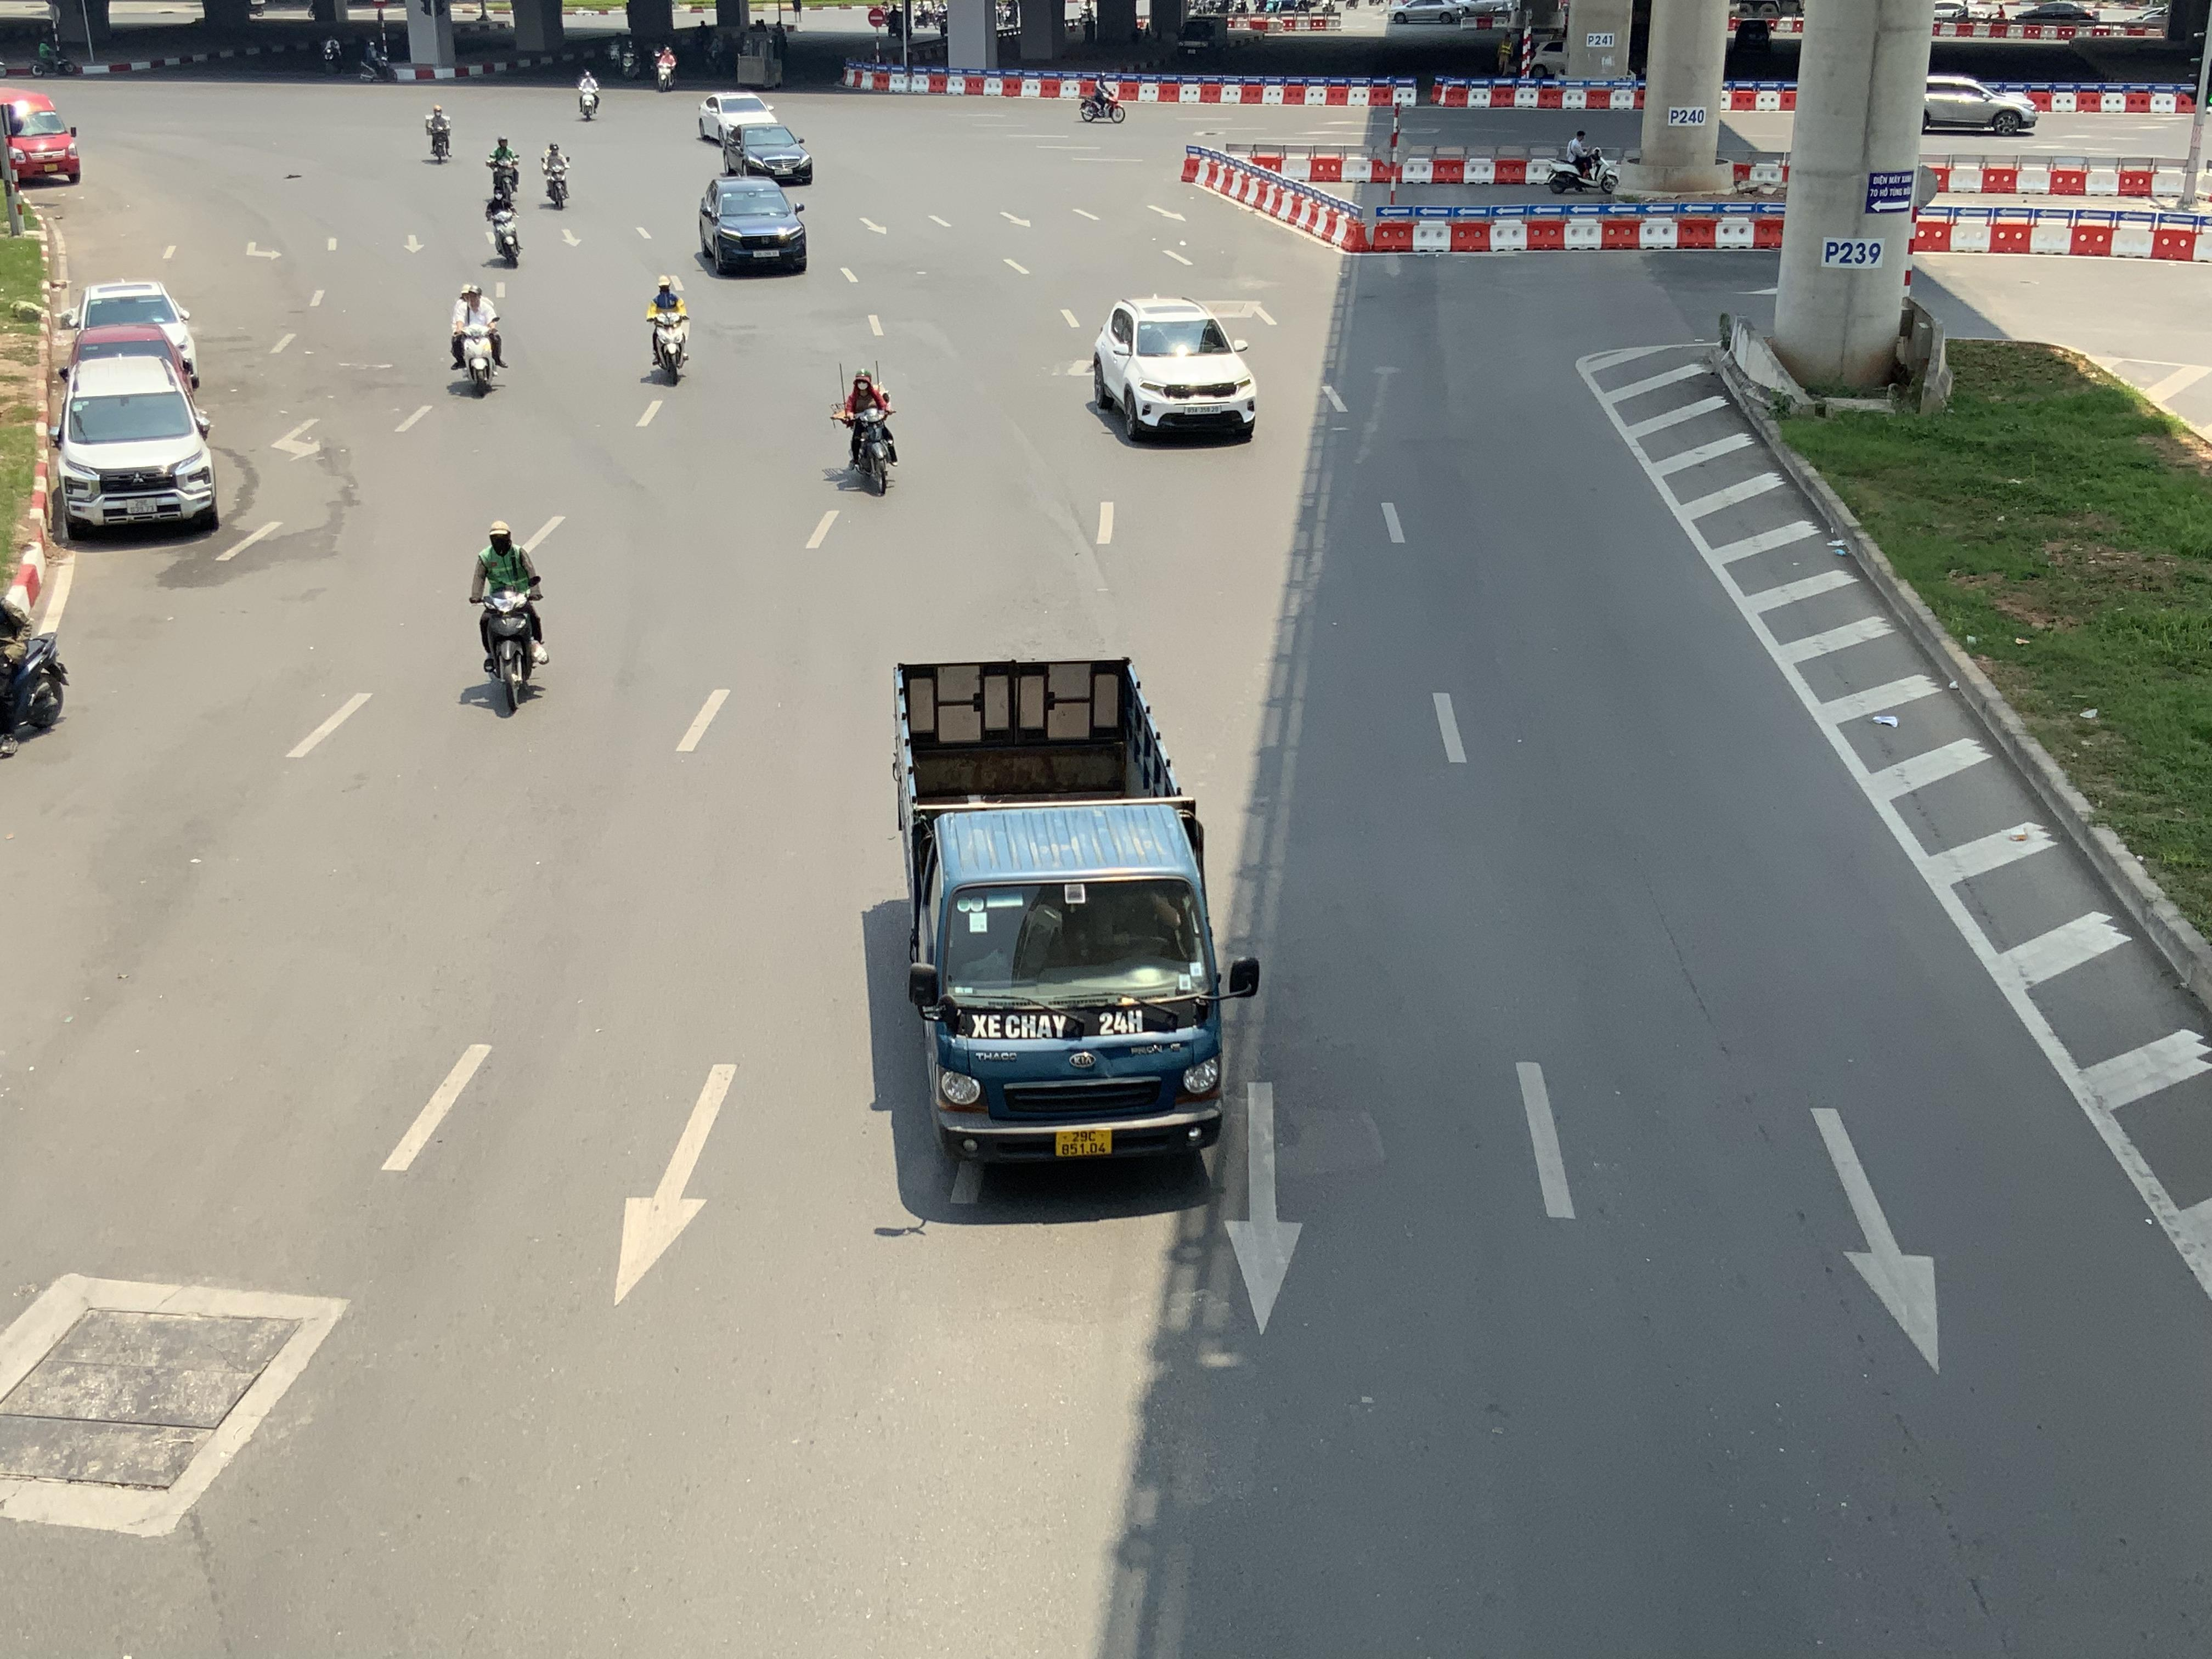BSD: (1184, 404, 1223, 415)
BSV: (1055, 1127, 1115, 1157)
car: (45, 349, 219, 537), (1089, 296, 1258, 444), (59, 281, 200, 392), (695, 174, 808, 277), (0, 94, 82, 186), (1926, 73, 2038, 134), (721, 120, 812, 185), (697, 91, 773, 146)
motorbike: (472, 519, 549, 718), (0, 568, 68, 765), (834, 362, 897, 497), (449, 281, 503, 397), (644, 275, 690, 385), (1547, 127, 1620, 195), (484, 178, 523, 268), (484, 134, 523, 202), (1078, 70, 1125, 122), (540, 138, 571, 211), (421, 99, 453, 164), (577, 64, 601, 122)
truck: (883, 655, 1258, 1168)
